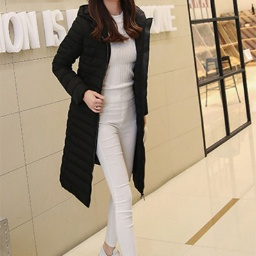face: (74, 1, 157, 44)
